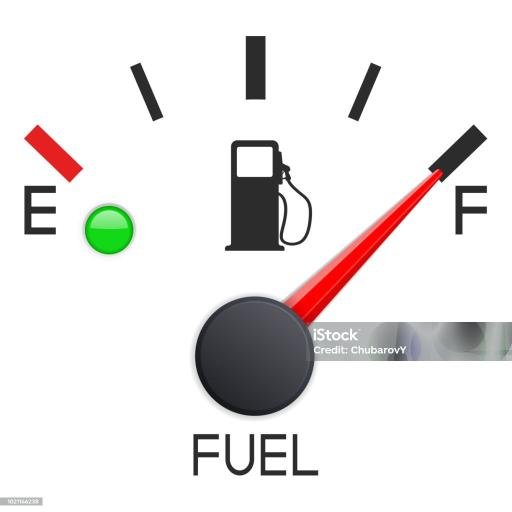empty: (20, 184, 69, 238)
fuel_icon: (224, 135, 316, 256)
full: (446, 184, 490, 236)
guage_area: (13, 26, 512, 418)
needle_center: (191, 293, 326, 416)
needle_tip: (425, 168, 445, 194)
